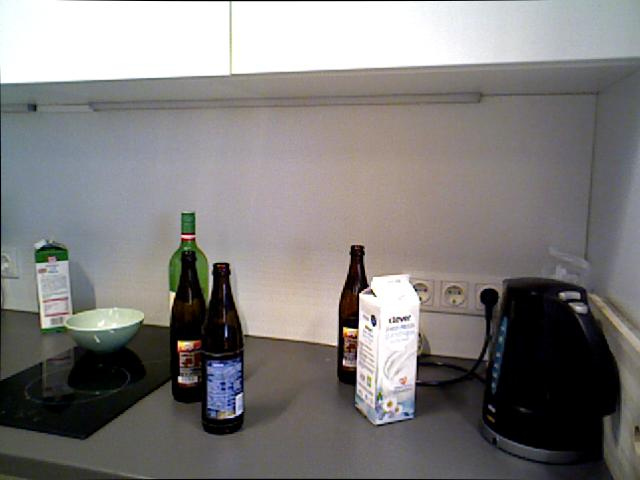bench: (352, 272, 422, 428), (200, 262, 245, 434), (169, 249, 206, 403), (336, 244, 370, 385), (167, 211, 209, 325), (31, 235, 75, 333)
bird: (64, 306, 145, 352)
